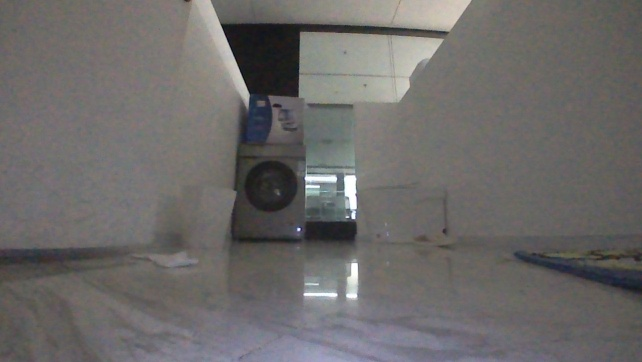blanket: (507, 242, 641, 293)
door_anno: (0, 1, 196, 255)
socks: (123, 248, 200, 270)
toilet: (351, 181, 449, 245)
trash_can: (176, 180, 236, 251)
washing_machine: (233, 138, 308, 243)
